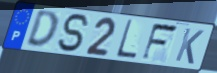2: (85, 15, 119, 58)
D: (24, 10, 59, 51)
F: (140, 22, 181, 62)
K: (173, 26, 206, 66)
L: (114, 18, 138, 60)
S: (56, 13, 92, 54)
